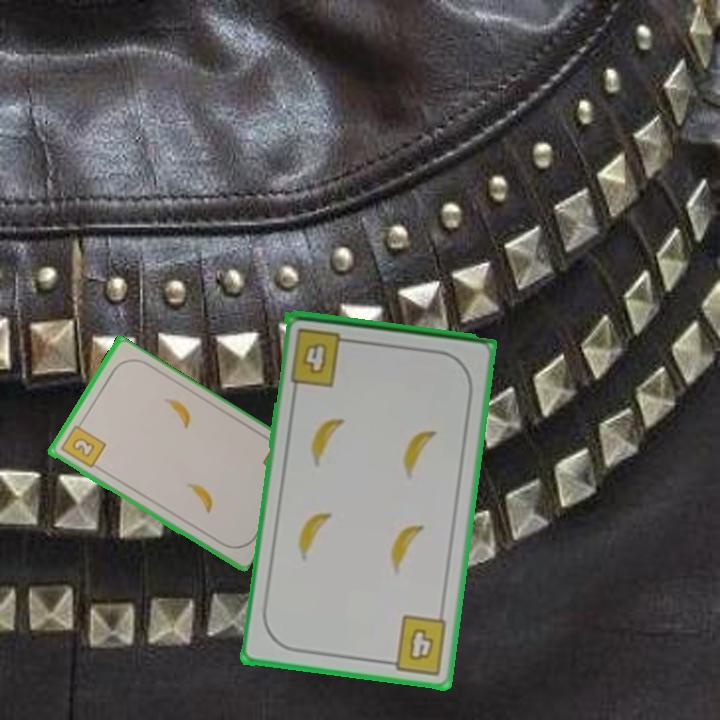2b: (57, 417, 108, 471)
4b: (381, 611, 450, 678), (287, 324, 356, 389)
